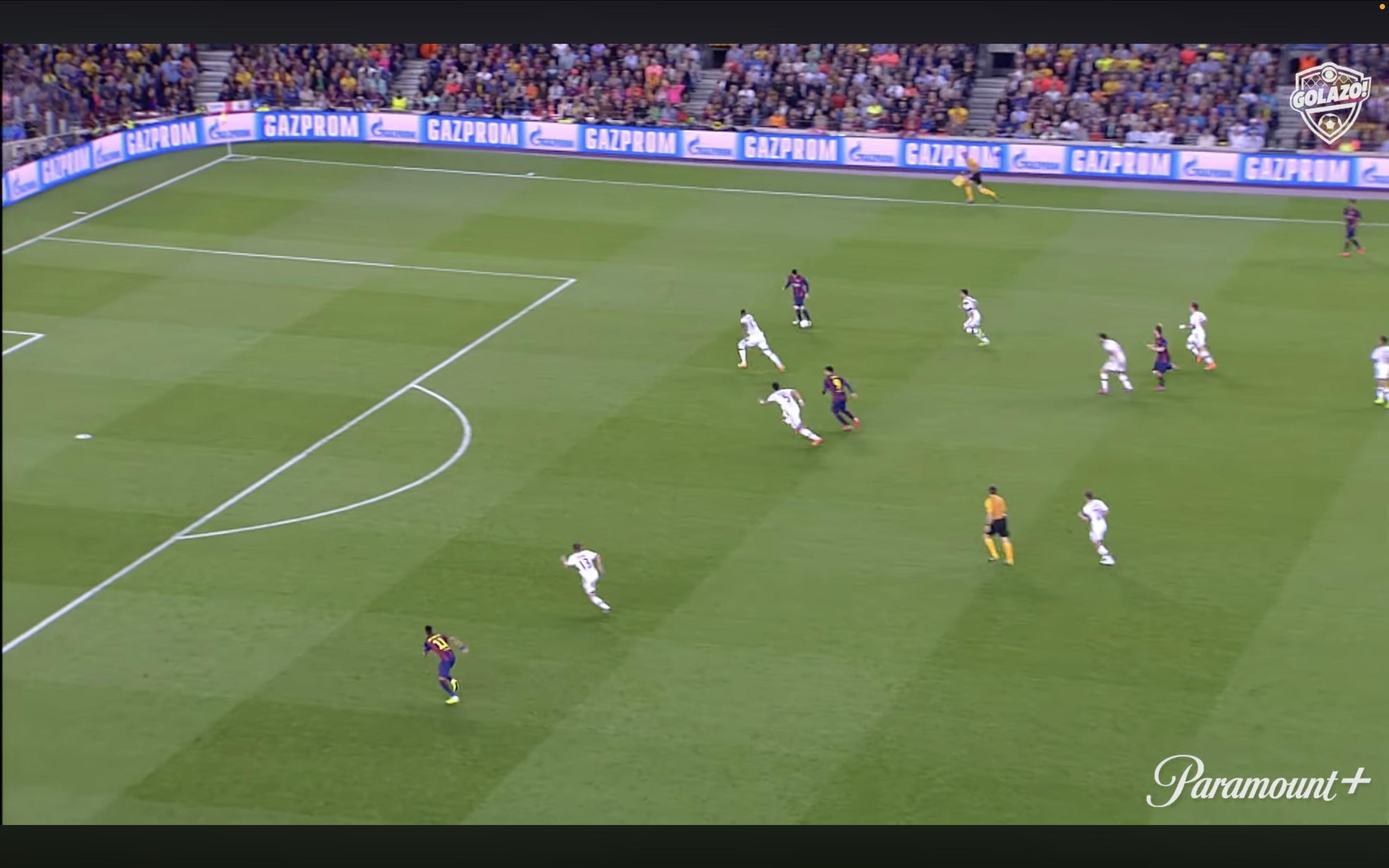ball: (799, 320, 811, 328)
player: (759, 382, 822, 444), (423, 625, 468, 704), (561, 544, 611, 612), (737, 310, 785, 371), (1078, 491, 1115, 565), (1179, 303, 1217, 370), (822, 367, 860, 431), (1098, 333, 1133, 394), (1148, 324, 1176, 390), (960, 289, 990, 346), (783, 269, 810, 328), (1370, 336, 1389, 407), (1341, 199, 1364, 257)
referee: (983, 486, 1014, 565), (953, 157, 1000, 203)
